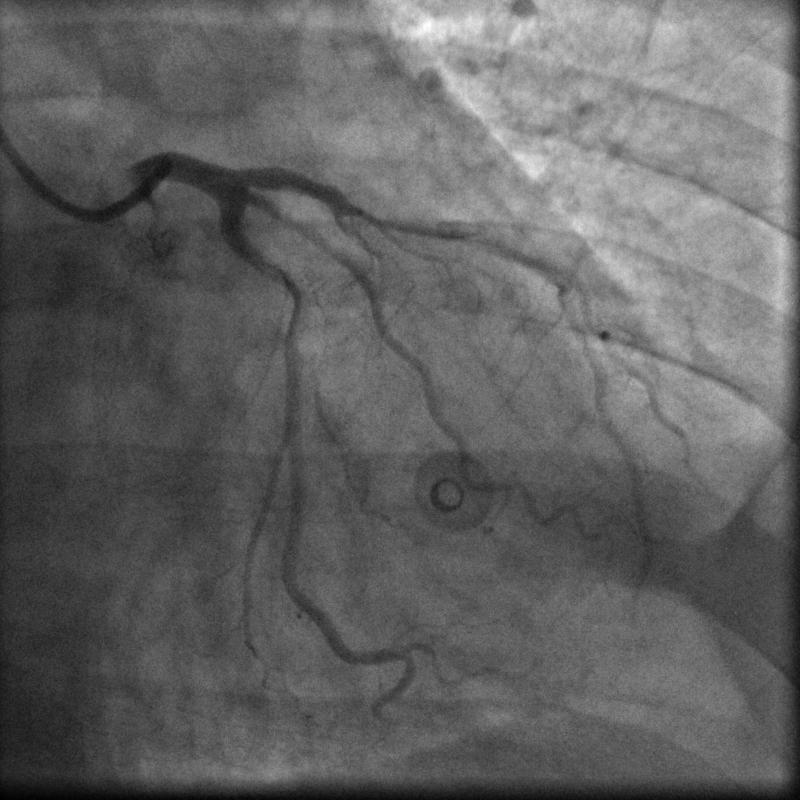Stenosis: (355, 205, 446, 239)
